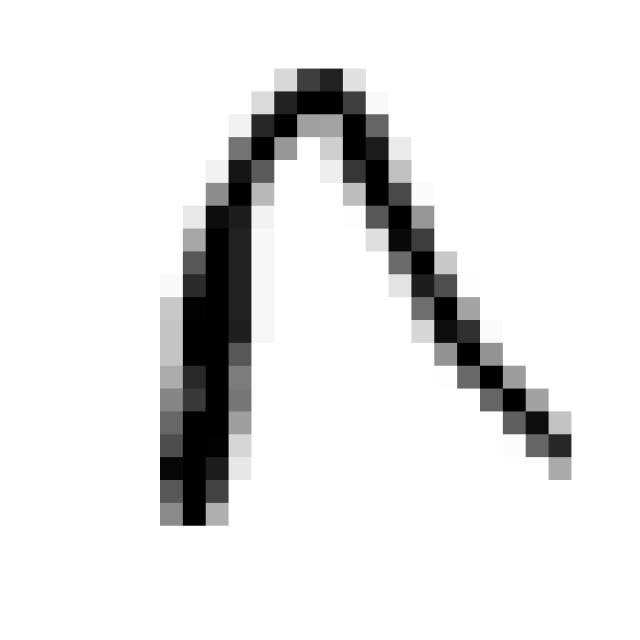8 -eight-: (137, 46, 591, 556)
